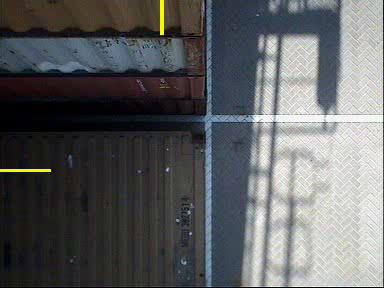groundmarker_2: (157, 132, 264, 207)
